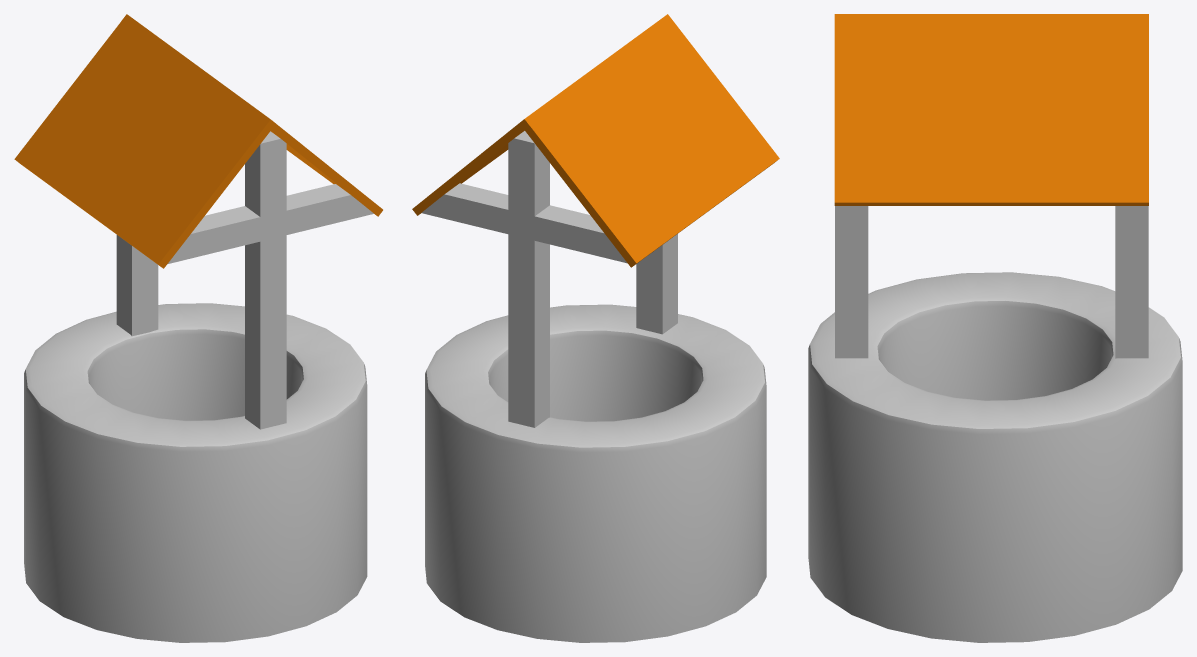
Rendered from Pozo.fbx.
3 views of the same model, side by side, from view 1: azimuth 30°, elevation 25°; view 2: azimuth 150°, elevation 25°; view 3: azimuth 270°, elevation 25° (orthographic). The views are drawn at different scales.
Parts seen in each view (by area): view 1: Cylinder001, Box002, Box001, Box004, Box003; view 2: Cylinder001, Box002, Box004, Box001, Box003; view 3: Cylinder001, Box003, Box004, Box001.
Part boxes in pixels (x1,y1,x2,y2): Cylinder001: (24,303,367,642); Box002: (14,14,275,268); Box001: (167,131,373,429); Box004: (116,235,158,336); Box003: (124,14,382,216); Cylinder001: (425,304,766,642); Box002: (524,14,779,267); Box004: (422,131,627,427); Box001: (636,234,677,334); Box003: (412,119,529,215); Cylinder001: (808,272,1182,642); Box003: (834,14,1148,205); Box004: (1115,206,1148,358); Box001: (835,206,868,358).
Size of the model in its own units: 40.94 by 66.44 by 40.94.
